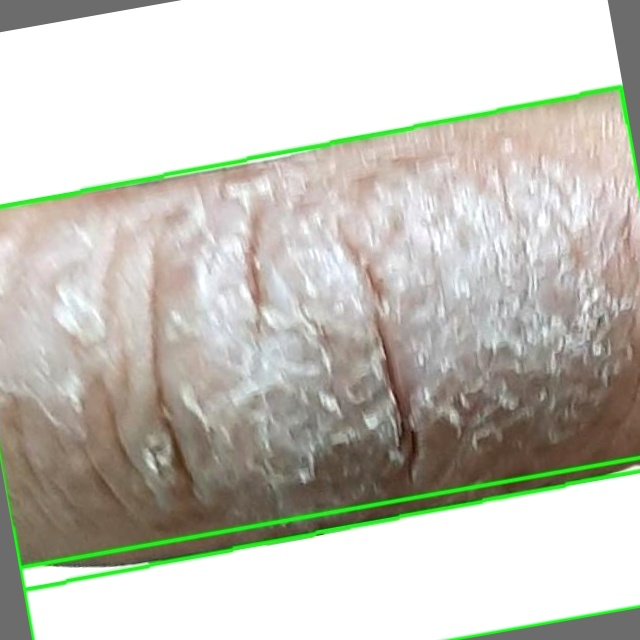Eczema: (0, 87, 639, 590), (19, 457, 639, 639)
